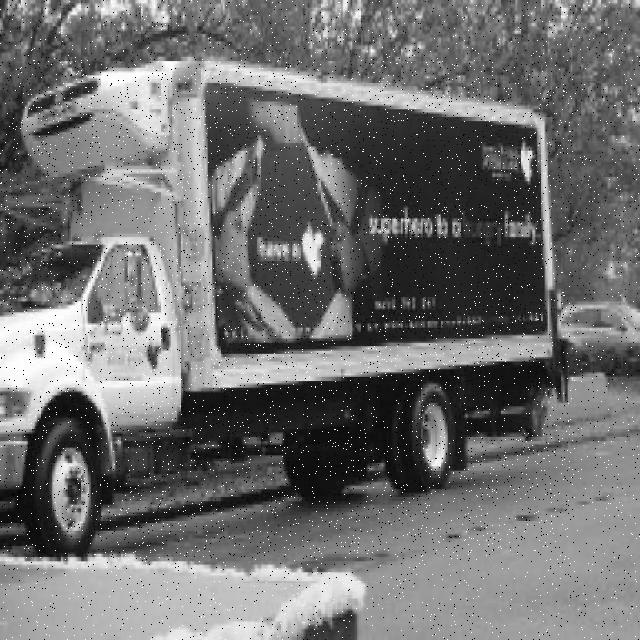Box Truck: (0, 58, 574, 559)
